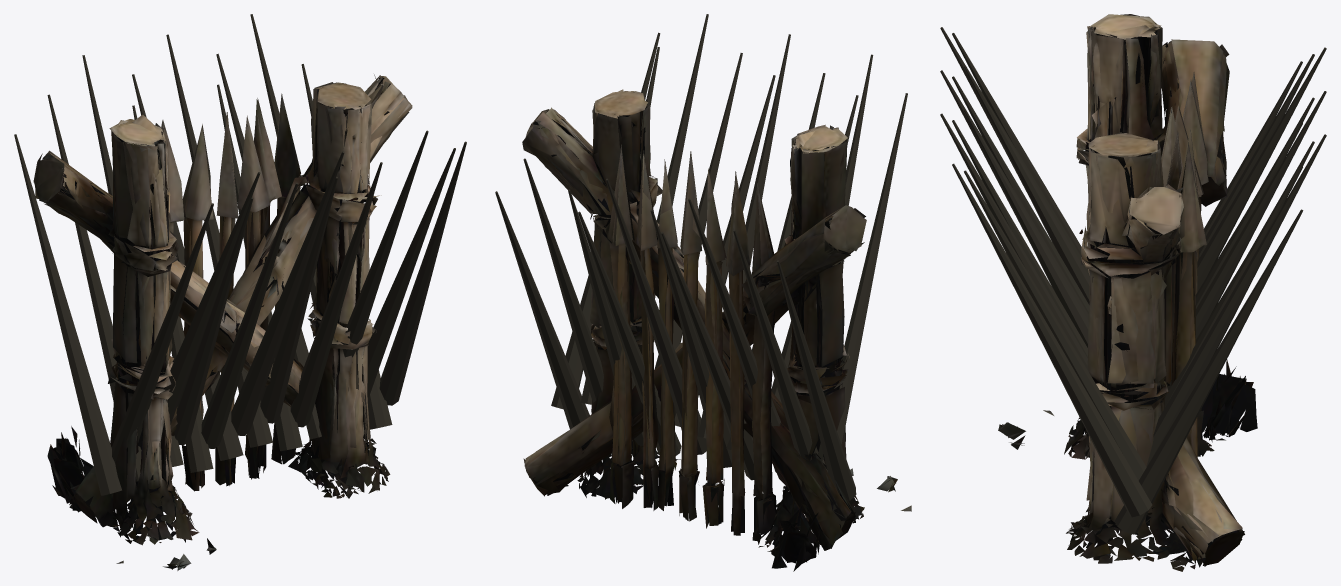
The model's file is goblin_spikes.glb.
3 renders of one model, left to right at view 1: azimuth 30°, elevation 25°; view 2: azimuth 150°, elevation 25°; view 3: azimuth 270°, elevation 25°, orthographic. The views are drawn at different scales.
Parts seen in each view (by area): view 1: goblin_spikes; view 2: goblin_spikes; view 3: goblin_spikes.
Boxes of the visible parts, <box> form: goblin_spikes: <box>14,14,466,570</box>; goblin_spikes: <box>495,14,911,571</box>; goblin_spikes: <box>940,14,1326,571</box>.
Bounding box in the file's own units: 1.31 × 1.47 × 1.18.
1 material, 1 textured.
